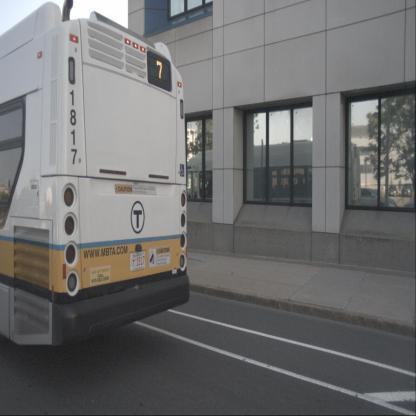vehicle-bus-rigid: (1, 0, 192, 386), (182, 137, 362, 245)
vehicle-car: (328, 186, 399, 231)
